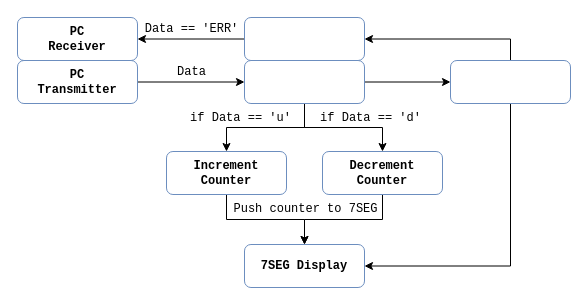
Some shapes in this 588 by 305 pixel diagram are drawn without their labels. The centre of each missing label's shape, as x and y in pixels:
ATmega16A Receiver: [304,82]
ATmega16A Transmitter: [304,38]
Leave Counter Unaffected: [510,82]
